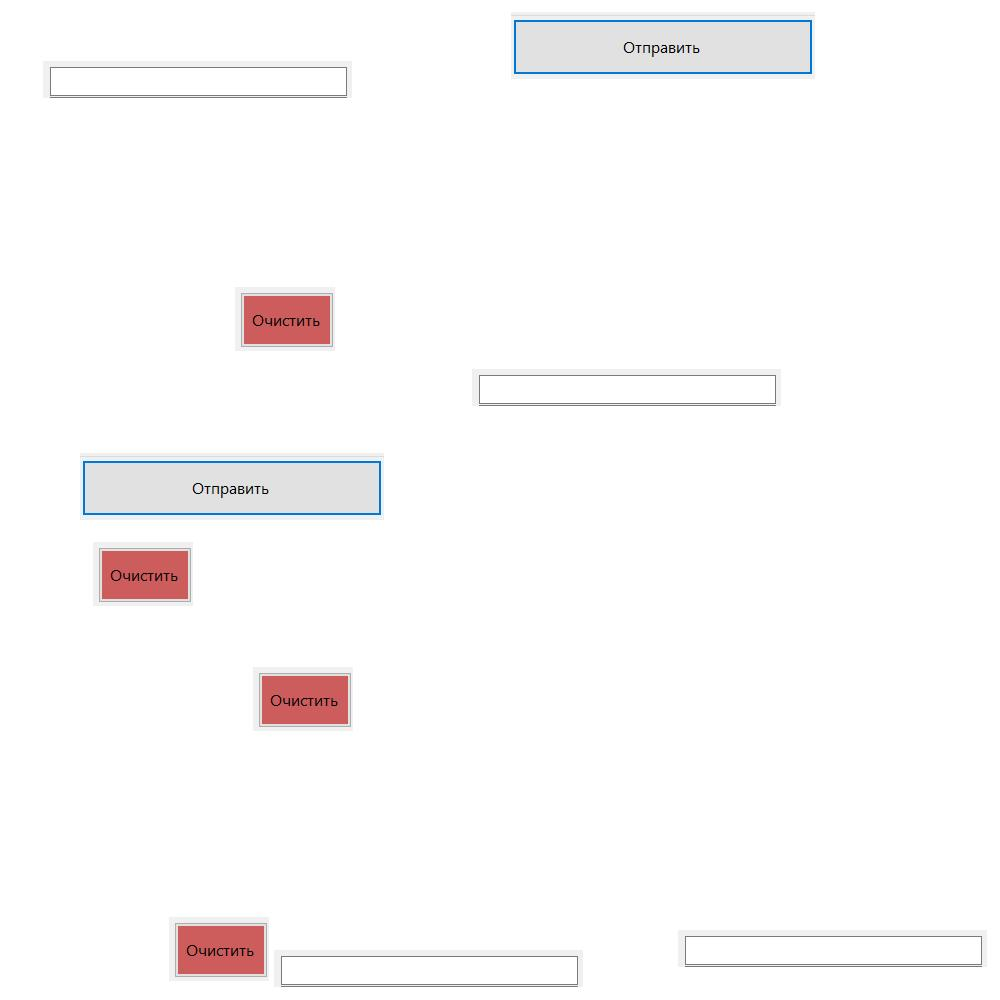Button: (511, 12, 815, 79), (80, 453, 384, 520), (253, 667, 353, 731), (235, 287, 335, 351), (93, 542, 193, 606), (169, 917, 269, 981)
EditText-: (43, 61, 352, 98), (678, 930, 987, 967), (274, 950, 583, 987), (472, 369, 781, 406)
